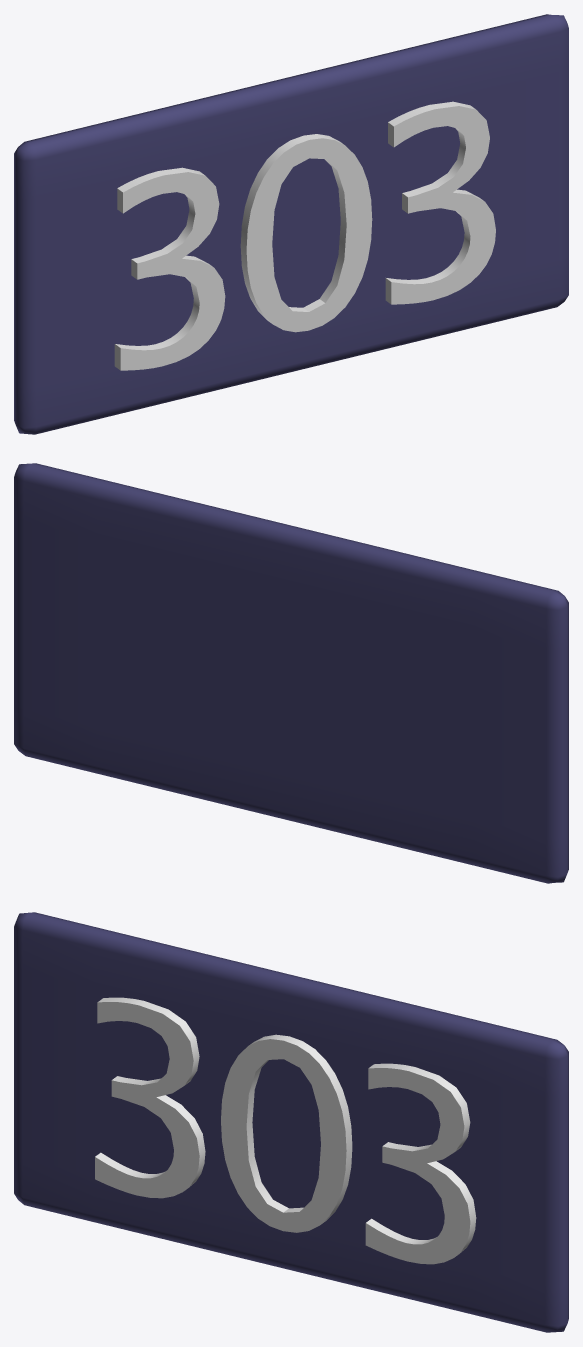
The model's file is room_303.fbx.
3 views of the same model, one above another, from view 1: azimuth 30°, elevation 25°; view 2: azimuth 150°, elevation 25°; view 3: azimuth 330°, elevation 25° (orthographic).
Parts seen in each view (by area): view 1: typeMesh5; view 2: typeMesh5; view 3: typeMesh5.
Boxes of the visible parts, x1,y1,x2,y2 form: typeMesh5: [14, 14, 568, 434]; typeMesh5: [14, 463, 568, 883]; typeMesh5: [14, 912, 568, 1332].
Size of the model in its own units: 2.21 by 1.11 by 0.1372.
